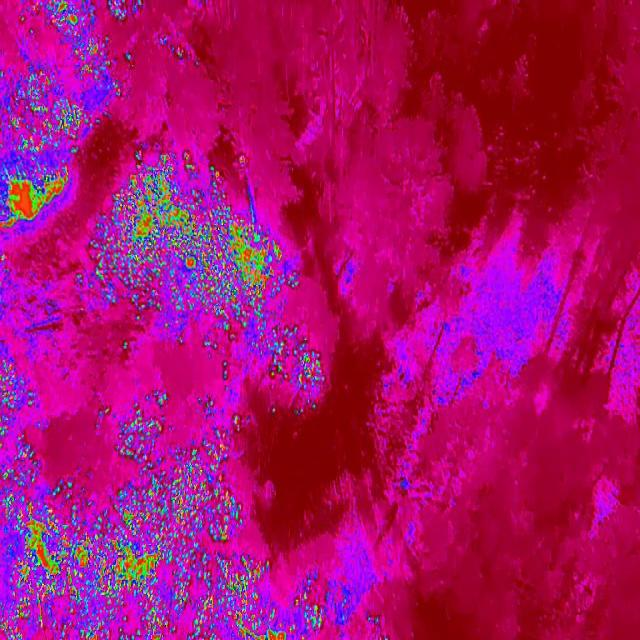fire: (75, 150, 289, 335), (1, 485, 158, 597), (118, 452, 252, 548), (159, 547, 282, 640), (0, 70, 92, 158), (0, 597, 158, 640), (256, 324, 325, 416), (105, 382, 172, 463), (0, 164, 70, 230), (70, 36, 132, 102), (195, 394, 242, 458), (20, 0, 97, 39), (0, 424, 38, 485), (280, 591, 326, 640), (0, 360, 34, 418), (100, 0, 151, 24), (156, 30, 188, 61), (363, 613, 382, 626), (0, 250, 8, 268)
